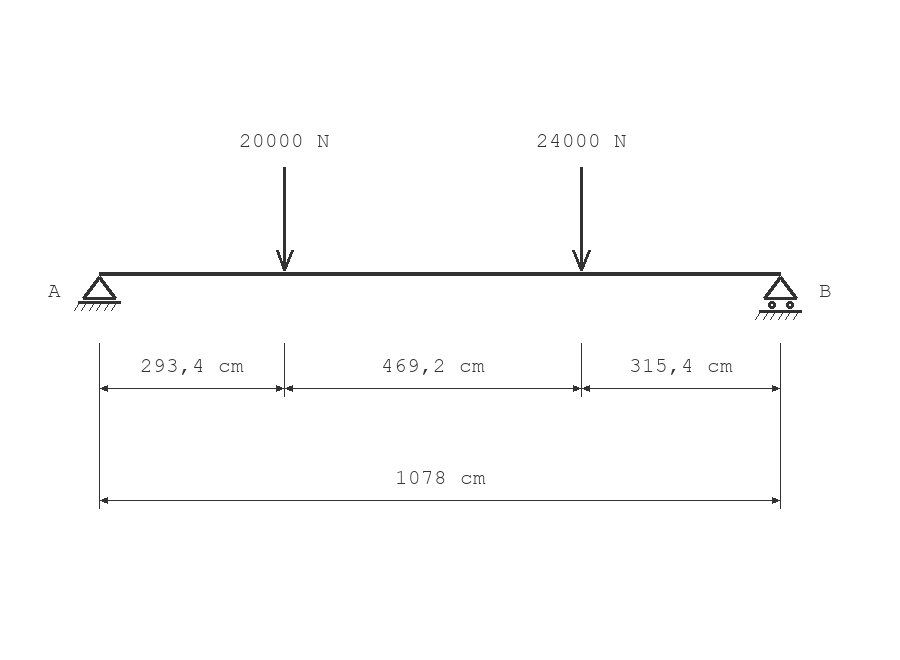pin_support: (74, 276, 121, 311)
point_load: (572, 167, 591, 271), (276, 167, 294, 271)
roller_support: (755, 276, 802, 320)
